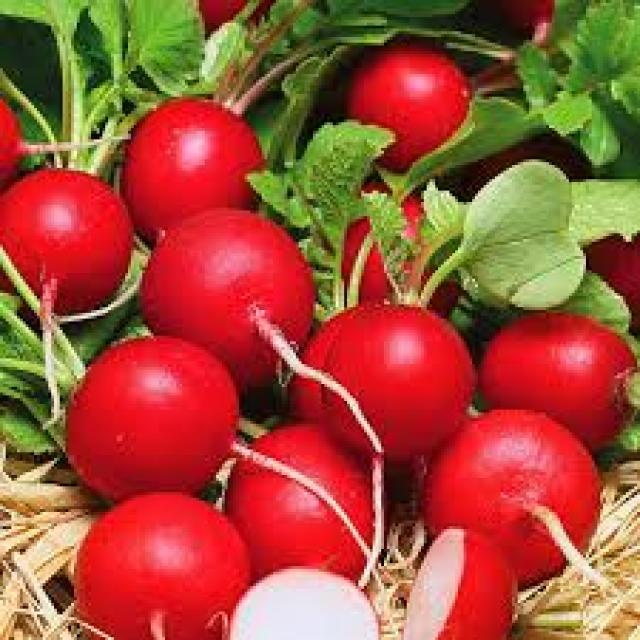rediska: (51, 330, 249, 512), (296, 294, 486, 471), (138, 203, 318, 384), (422, 405, 600, 585), (222, 418, 400, 595), (65, 487, 247, 639), (455, 306, 640, 447), (330, 34, 484, 182), (117, 99, 267, 249), (0, 154, 125, 331), (338, 179, 480, 300), (400, 522, 512, 640), (225, 559, 386, 640), (0, 66, 37, 190)
